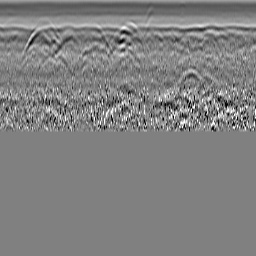cavity: (113, 21, 144, 41)
